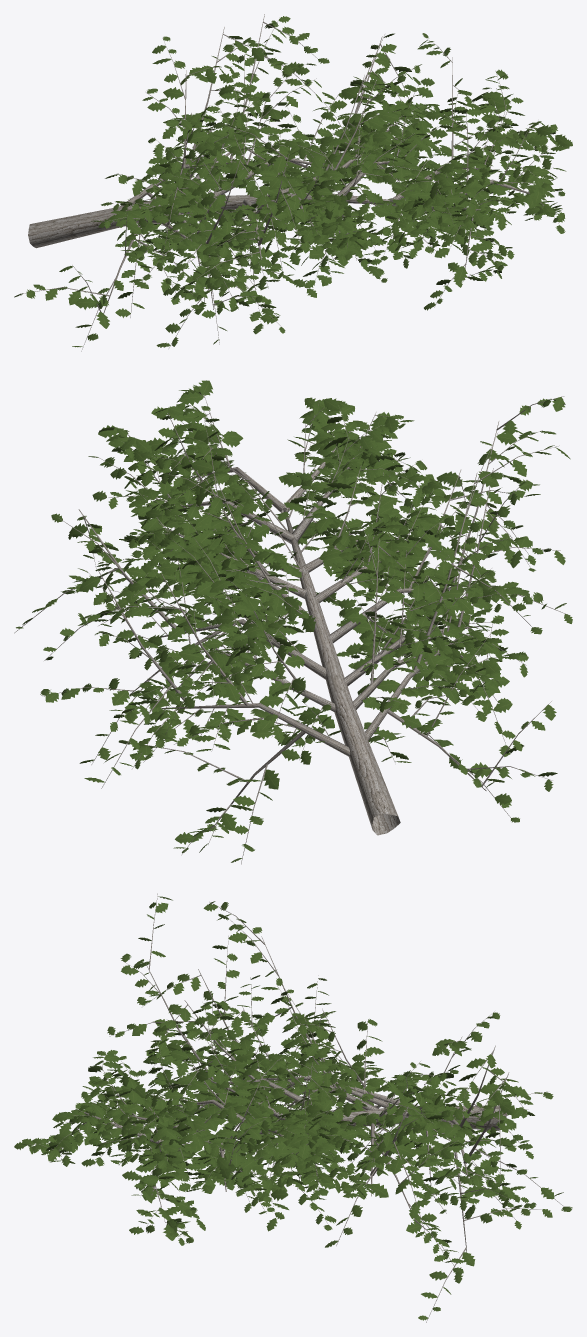
Rendered from LowBranchedWhiteOak-SingleBranch.glb.
3 renders of one model, top to bottom at view 1: azimuth 30°, elevation 25°; view 2: azimuth 150°, elevation 25°; view 3: azimuth 270°, elevation 25°, orthographic. The views are drawn at different scales.
Visible parts, largest first — view 1: Oak branch - modeled leaves, Oak branch - bark; view 2: Oak branch - modeled leaves, Oak branch - bark; view 3: Oak branch - modeled leaves, Oak branch - bark.
Boxes of the visible parts, <box> form: Oak branch - modeled leaves: <box>14,16,572,347</box>; Oak branch - bark: <box>20,14,558,351</box>; Oak branch - modeled leaves: <box>16,380,572,862</box>; Oak branch - bark: <box>14,394,569,864</box>; Oak branch - modeled leaves: <box>14,896,572,1320</box>; Oak branch - bark: <box>29,893,563,1322</box>.
Size of the model in its own units: 7.39 by 5.29 by 7.95.
2 materials, 2 textured.
